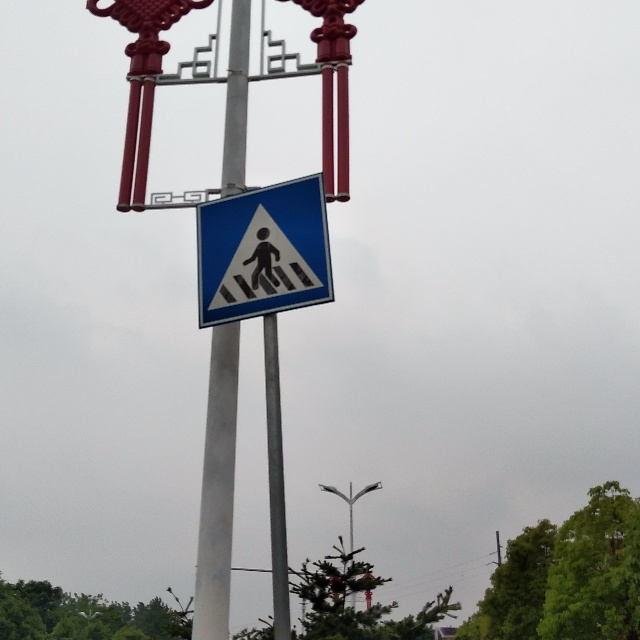crosswalk: (189, 171, 345, 333)
